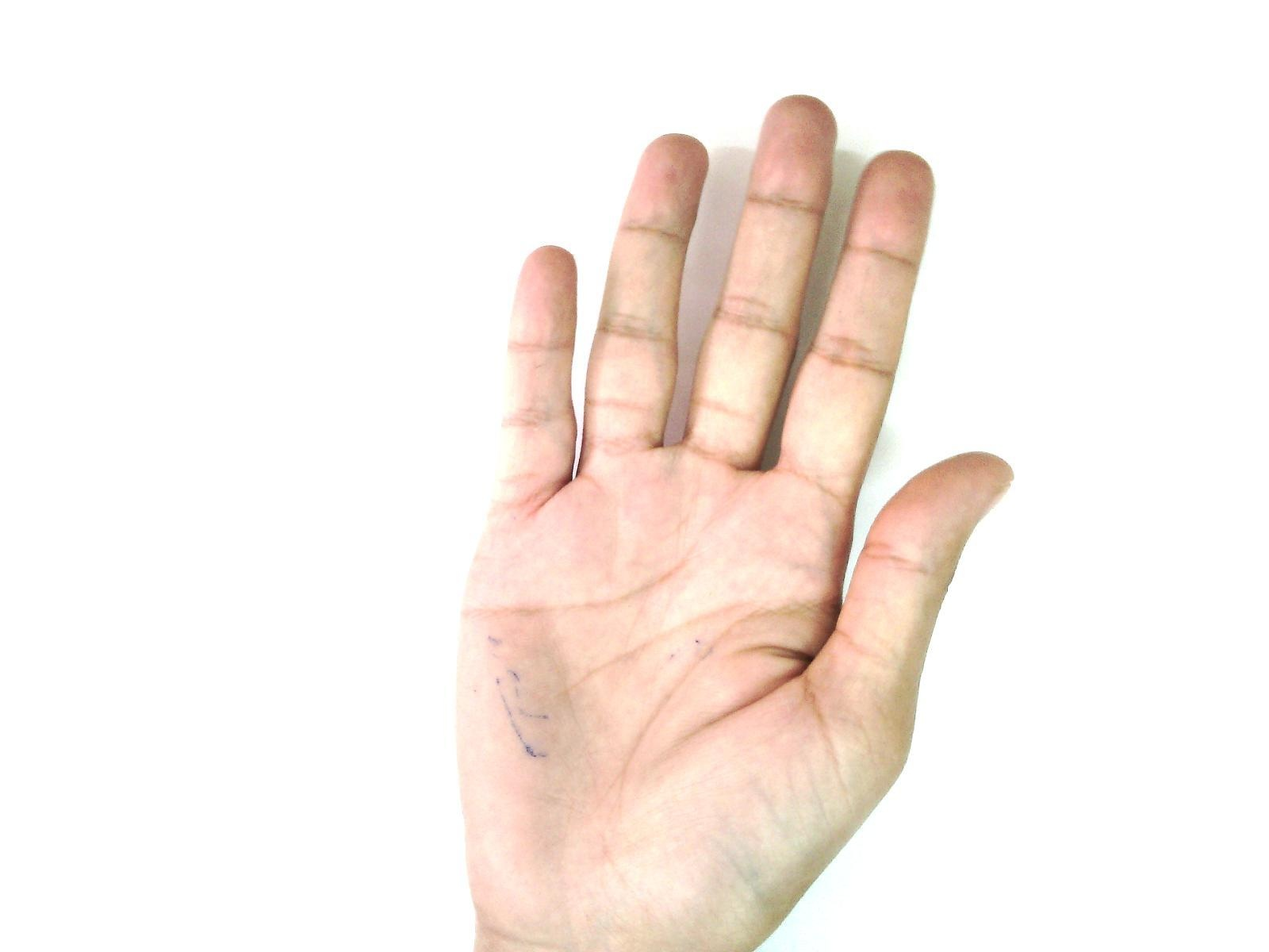open_palm: (451, 94, 1016, 951)
